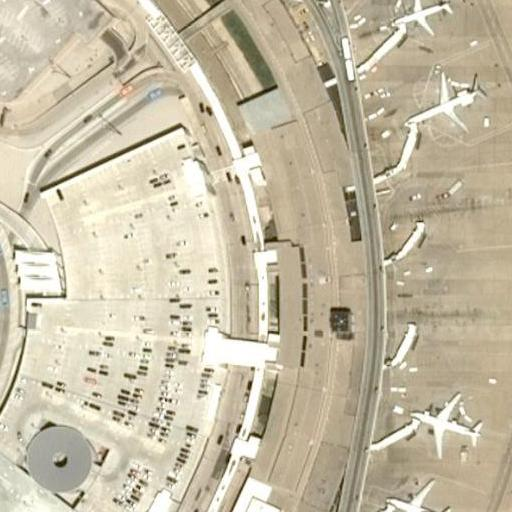Aircraft: (407, 392, 490, 458), (408, 75, 479, 136), (386, 478, 452, 512), (393, 0, 452, 38)
